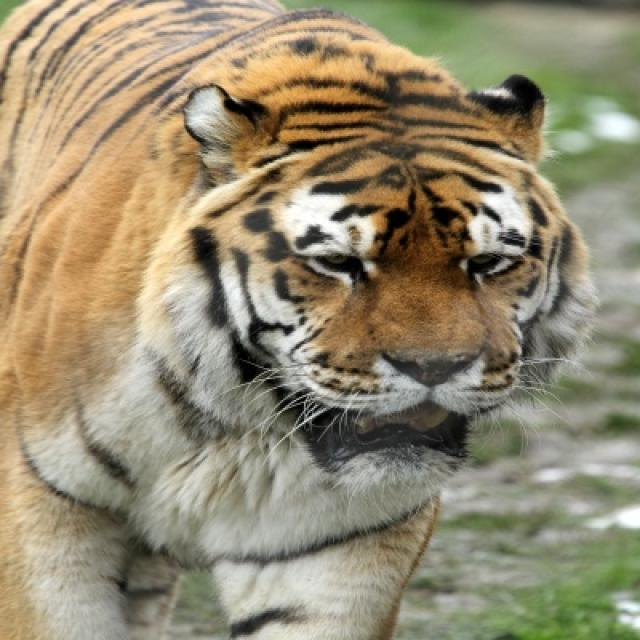Tiger: (0, 2, 600, 638)
